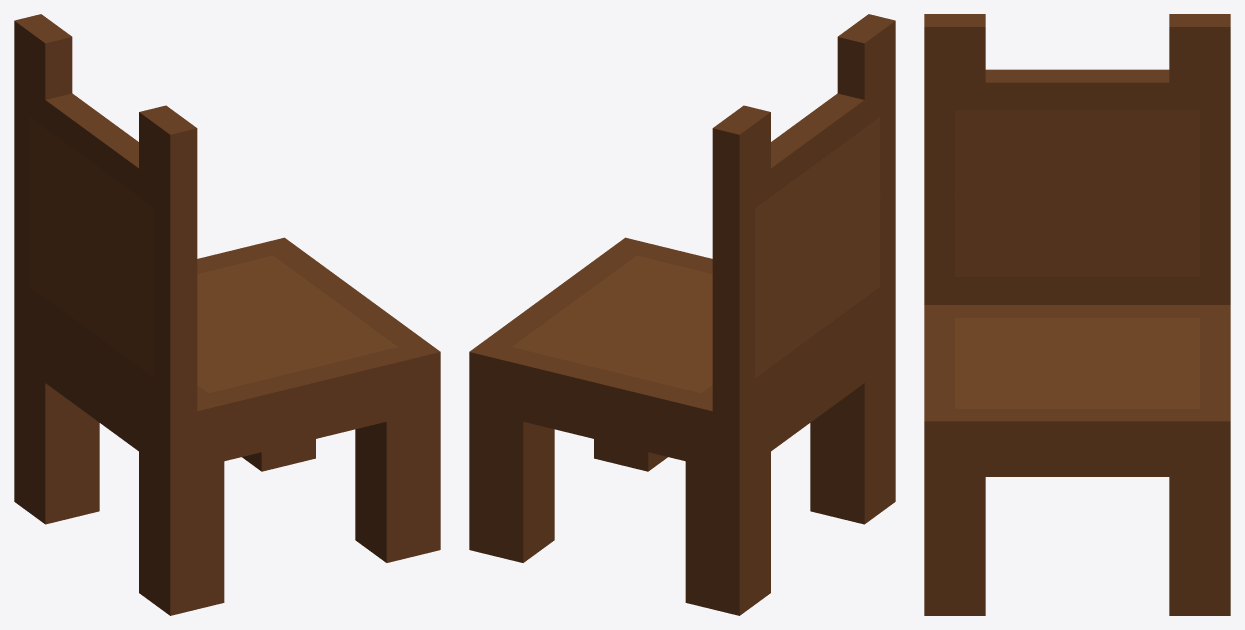
The model's file is chair_wood.dae.
3 renders of one model, left to right at view 1: azimuth 30°, elevation 25°; view 2: azimuth 150°, elevation 25°; view 3: azimuth 270°, elevation 25°, orthographic.
Parts seen in each view (by area): view 1: chair_wood; view 2: chair_wood; view 3: chair_wood.
Part boxes in pixels (<box>): chair_wood: <box>14,14,440,615</box>; chair_wood: <box>469,14,895,615</box>; chair_wood: <box>924,14,1230,615</box>.
Bounding box in the file's own units: 1 × 1.7 × 1.
1 material, 1 textured.
